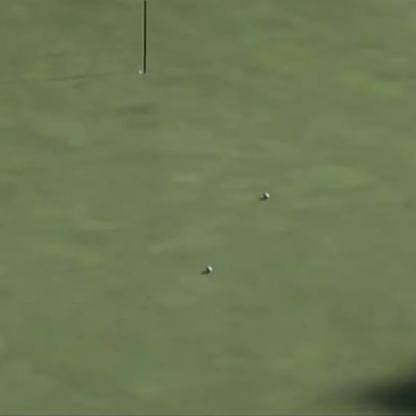golfball: (203, 263, 213, 273)
